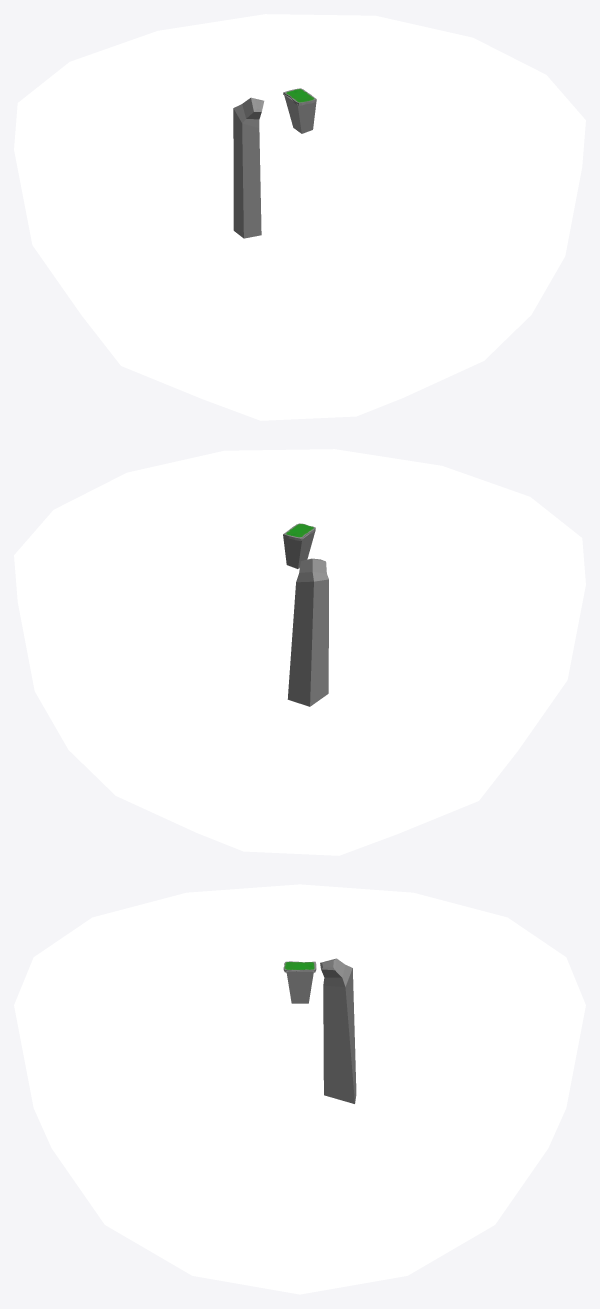
The model's file is Map04.glb.
The picture shows the model from 3 angles, top to bottom: view 1: azimuth 30°, elevation 25°; view 2: azimuth 150°, elevation 25°; view 3: azimuth 270°, elevation 25°; orthographic projection.
Visible parts, largest first — view 1: Skybox, Cube.002, Cube.001; view 2: Skybox, Cube.002, Cube.001; view 3: Skybox, Cube.002, Cube.001.
Boxes of the visible parts, x1,y1,x2,y2 form: Skybox: (14,14,585,420); Cube.002: (233,97,264,238); Cube.001: (284,94,316,133); Skybox: (14,449,585,855); Cube.002: (287,558,328,706); Cube.001: (283,524,315,568); Skybox: (14,884,585,1294); Cube.002: (320,958,356,1103); Cube.001: (286,971,313,1003).
Bounding box in the file's own units: 410 × 236 × 410.
Materials: 2 (1 with a texture image).
